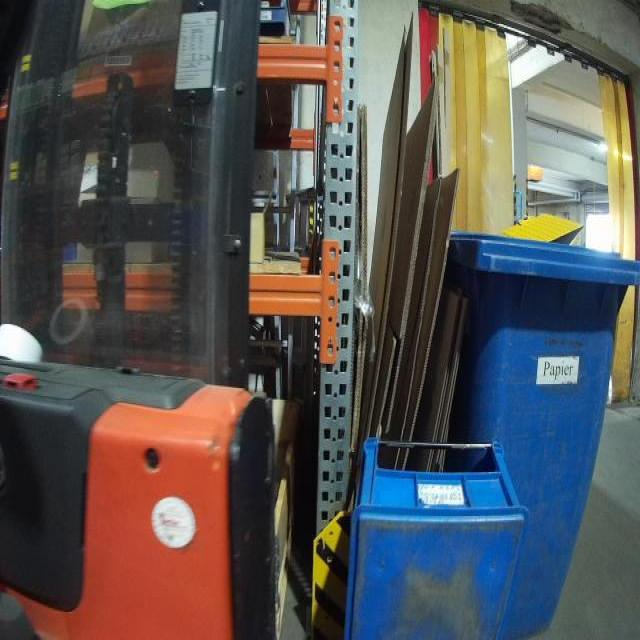pallet_truck: (4, 3, 286, 639)
